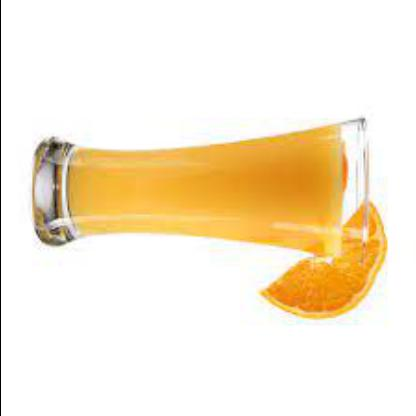orange juice: (62, 123, 344, 259)
